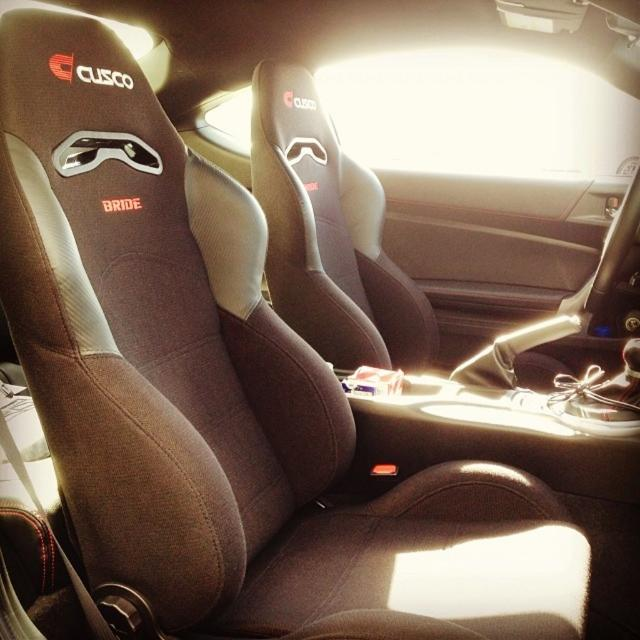Seatbelt: (0, 407, 116, 639)
